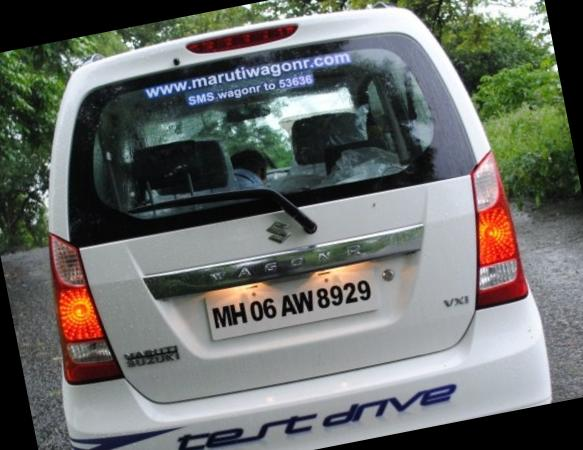plate: (188, 241, 414, 356)
